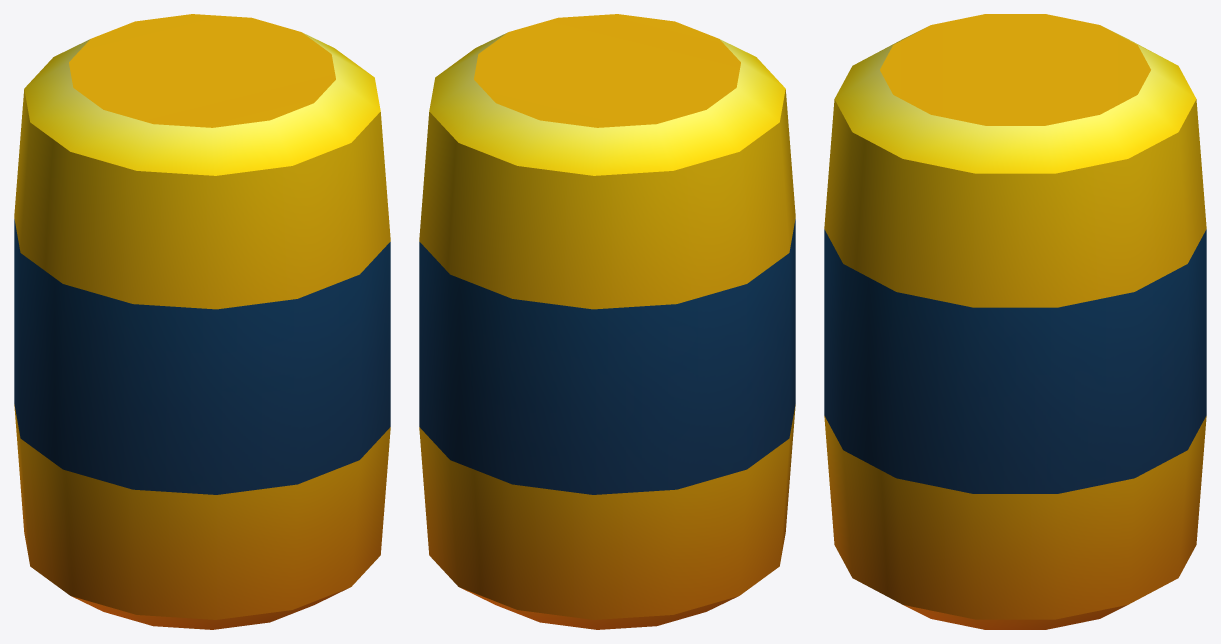
File: Barrel_1B.fbx
The picture shows the model from 3 angles, left to right: view 1: azimuth 30°, elevation 25°; view 2: azimuth 150°, elevation 25°; view 3: azimuth 270°, elevation 25°; orthographic projection.
Visible parts, largest first — view 1: Barrel_1B; view 2: Barrel_1B; view 3: Barrel_1B.
Boxes of the visible parts, bbox=[...] form: Barrel_1B: bbox=[14, 14, 390, 629]; Barrel_1B: bbox=[419, 14, 795, 629]; Barrel_1B: bbox=[824, 14, 1206, 629].
Size of the model in its own units: 0.9383 by 1.4 by 0.9625.
